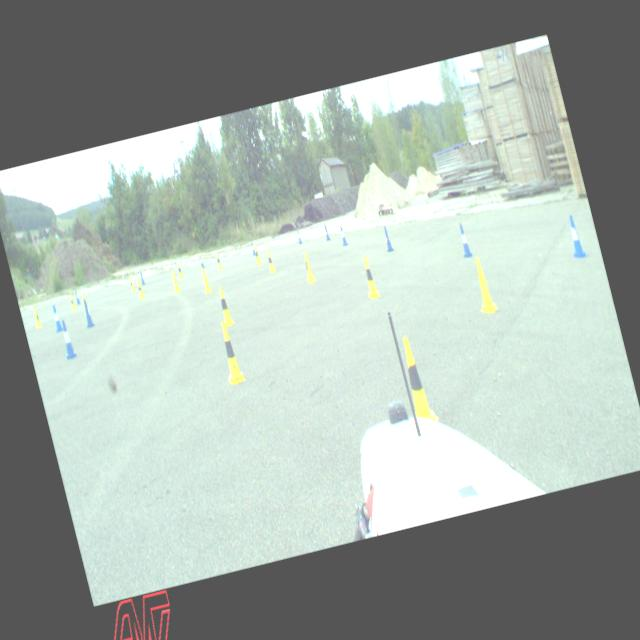blue_cone: (563, 212, 587, 260), (57, 318, 78, 359), (454, 220, 474, 258), (49, 303, 64, 332), (81, 298, 95, 328), (381, 225, 394, 252), (337, 224, 348, 246), (322, 223, 330, 241), (294, 228, 302, 244), (138, 269, 146, 285), (73, 288, 81, 304), (198, 254, 204, 268), (250, 242, 256, 255)
yellow_cone: (396, 333, 439, 426), (214, 320, 245, 385), (468, 254, 498, 314), (358, 253, 381, 300), (214, 284, 235, 327), (300, 250, 316, 284), (198, 266, 212, 294), (264, 247, 276, 273), (134, 276, 146, 298), (31, 306, 42, 328), (169, 270, 180, 292), (252, 244, 262, 266), (214, 252, 223, 270), (68, 294, 76, 310), (128, 275, 136, 291), (176, 262, 183, 278)
